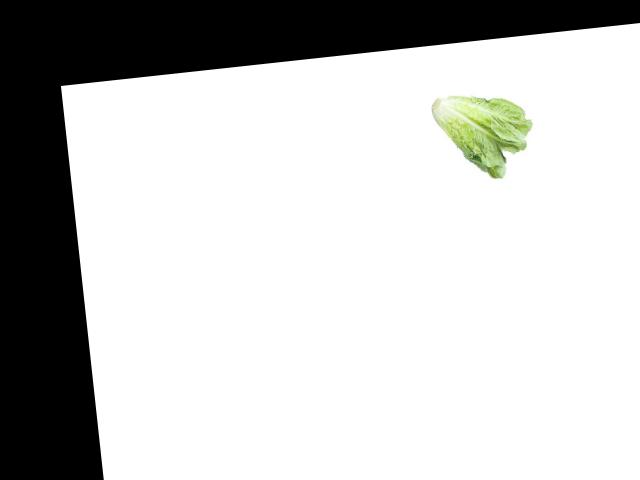lettuce: (433, 82, 537, 190)
